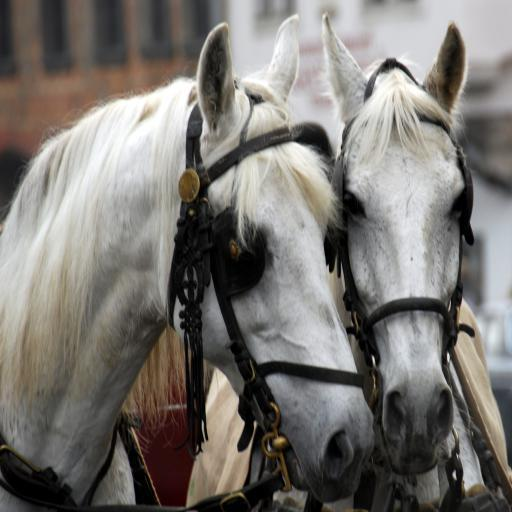horse: (0, 14, 375, 512), (187, 10, 511, 511)
